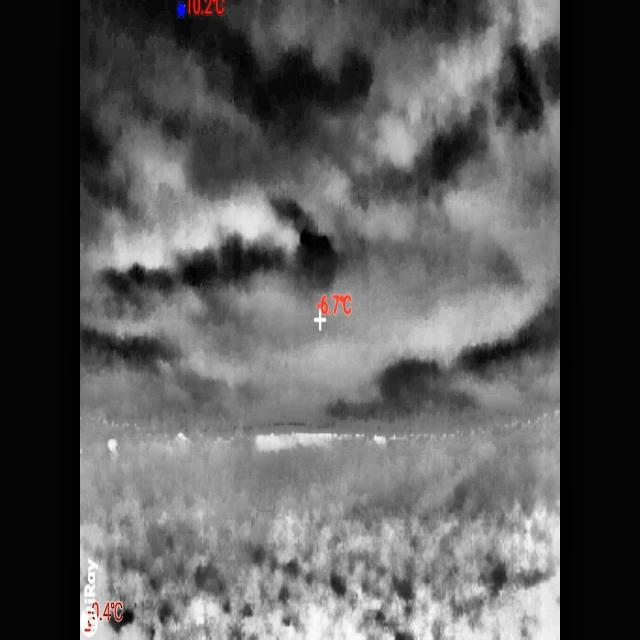drone: (108, 435, 119, 453)
